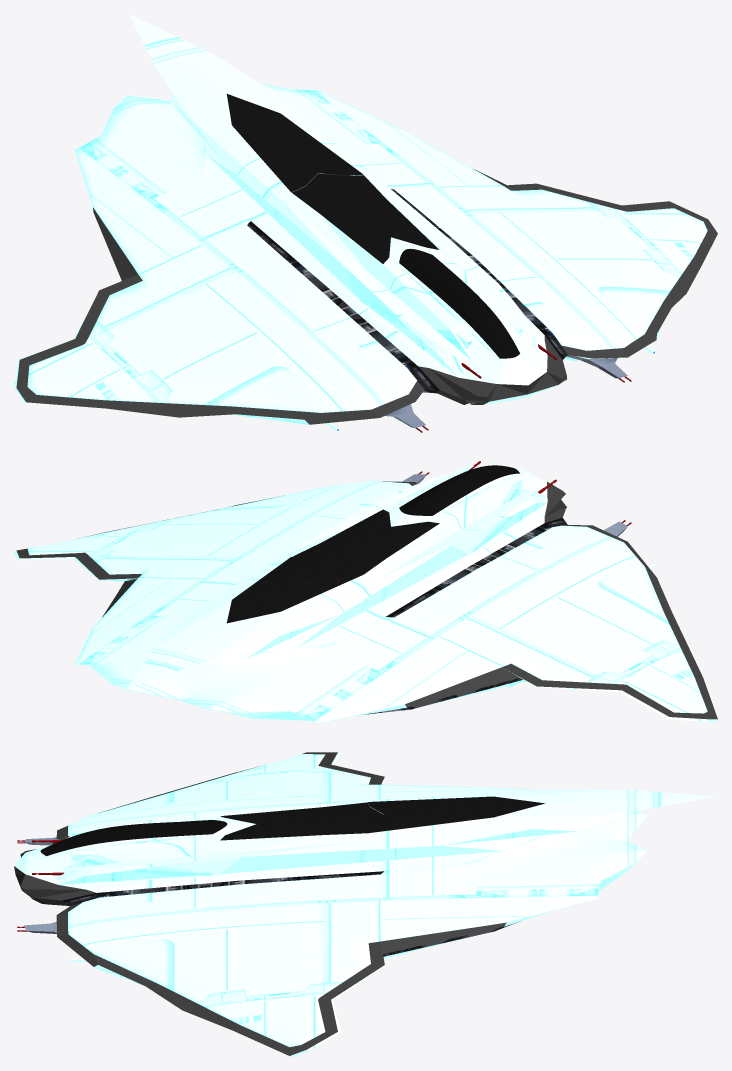
The model's file is mantaray-XHD.glb.
3 views of the same model, one above another, from view 1: azimuth 30°, elevation 25°; view 2: azimuth 150°, elevation 25°; view 3: azimuth 270°, elevation 25° (orthographic). The views are drawn at different scales.
Parts seen in each view (by area): view 1: ENGINE MECH PARTS.001, ENGINE MECH PARTS.002; view 2: ENGINE MECH PARTS.001, ENGINE MECH PARTS.002; view 3: ENGINE MECH PARTS.001, ENGINE MECH PARTS.002.
Boxes of the visible parts, x1=… form: ENGINE MECH PARTS.001: x1=14, y1=14, x2=707, y2=432; ENGINE MECH PARTS.002: x1=16, y1=169, x2=717, y2=424; ENGINE MECH PARTS.001: x1=14, y1=461, x2=717, y2=723; ENGINE MECH PARTS.002: x1=16, y1=481, x2=717, y2=719; ENGINE MECH PARTS.001: x1=14, y1=752, x2=716, y2=1056; ENGINE MECH PARTS.002: x1=14, y1=752, x2=506, y2=1055.
Size of the model in its own units: 20 by 3.5 by 20.
Materials: 15 (8 with a texture image).
